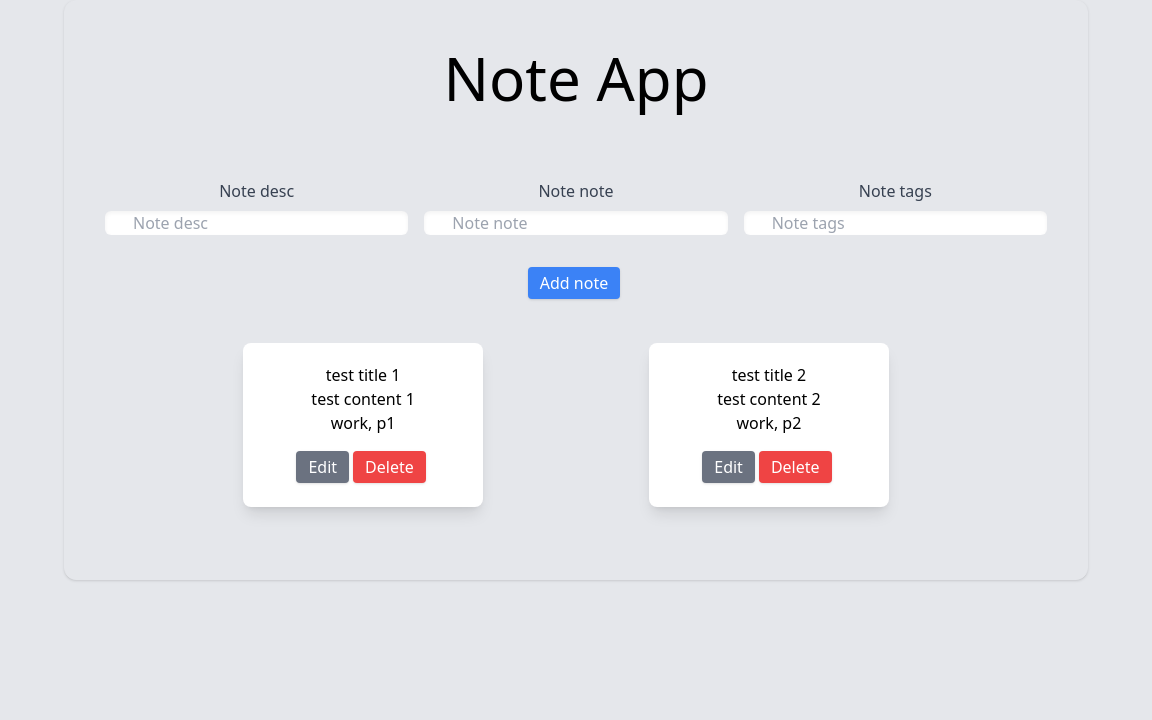
Scenario: test note app renders › Should render the edit modal
This screenshot has width=1152, height=720.
Click the button "Edit" below "test title 1" at (323, 467), box top-left (296, 451), bottom-right (349, 483)
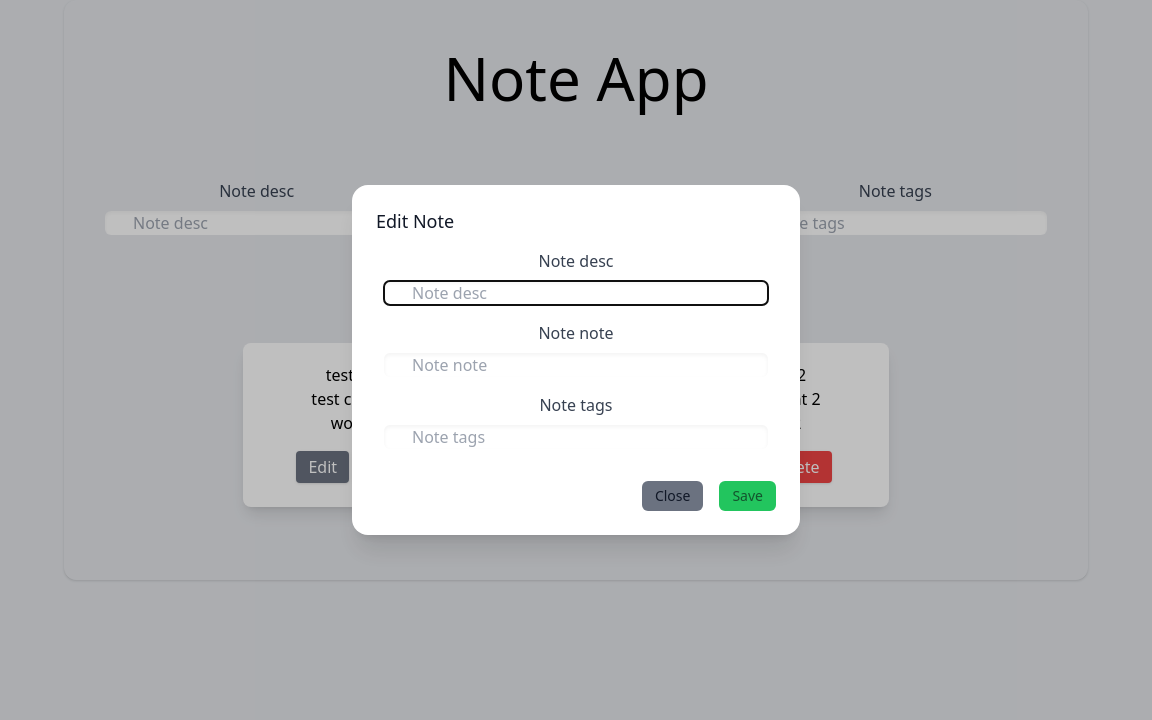
Expected: the element with test id "edit-modal" is shown, top-left (352, 185), bottom-right (800, 535)
